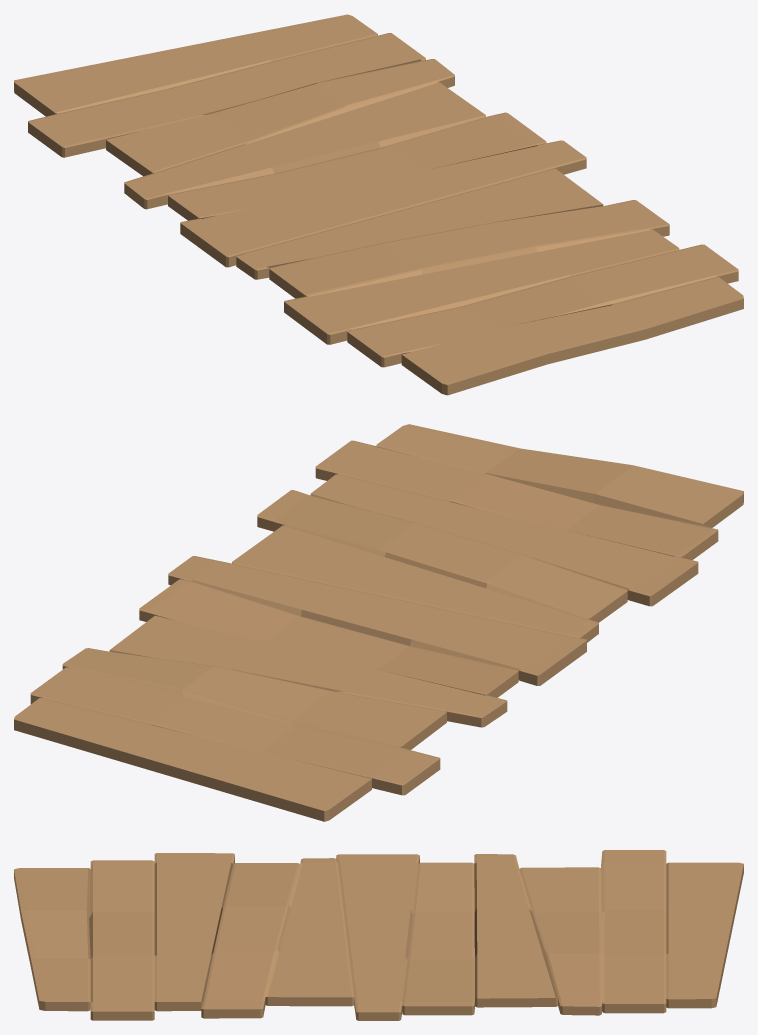
The model's file is Plateform_wood_1.fbx.
The picture shows the model from 3 angles, top to bottom: view 1: azimuth 30°, elevation 25°; view 2: azimuth 150°, elevation 25°; view 3: azimuth 270°, elevation 25°; orthographic projection. The views are drawn at different scales.
Parts seen in each view (by area): view 1: Plateform_wood_1; view 2: Plateform_wood_1; view 3: Plateform_wood_1.
Part boxes in pixels (box(x1,y1,x2,y2)): Plateform_wood_1: box(14, 14, 743, 395); Plateform_wood_1: box(14, 424, 743, 821); Plateform_wood_1: box(14, 850, 743, 1020).
Bounding box in the file's own units: 851 × 447 × 21.89.
